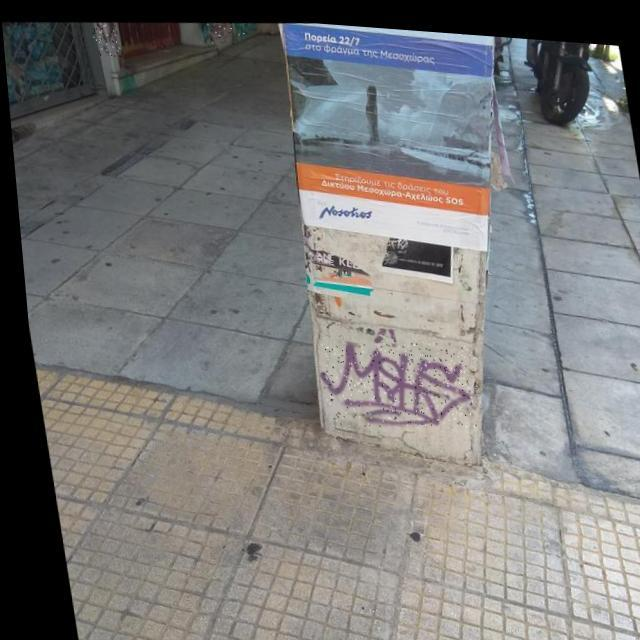-: (310, 328, 470, 430), (90, 18, 120, 56), (232, 16, 268, 38), (206, 18, 234, 42)
